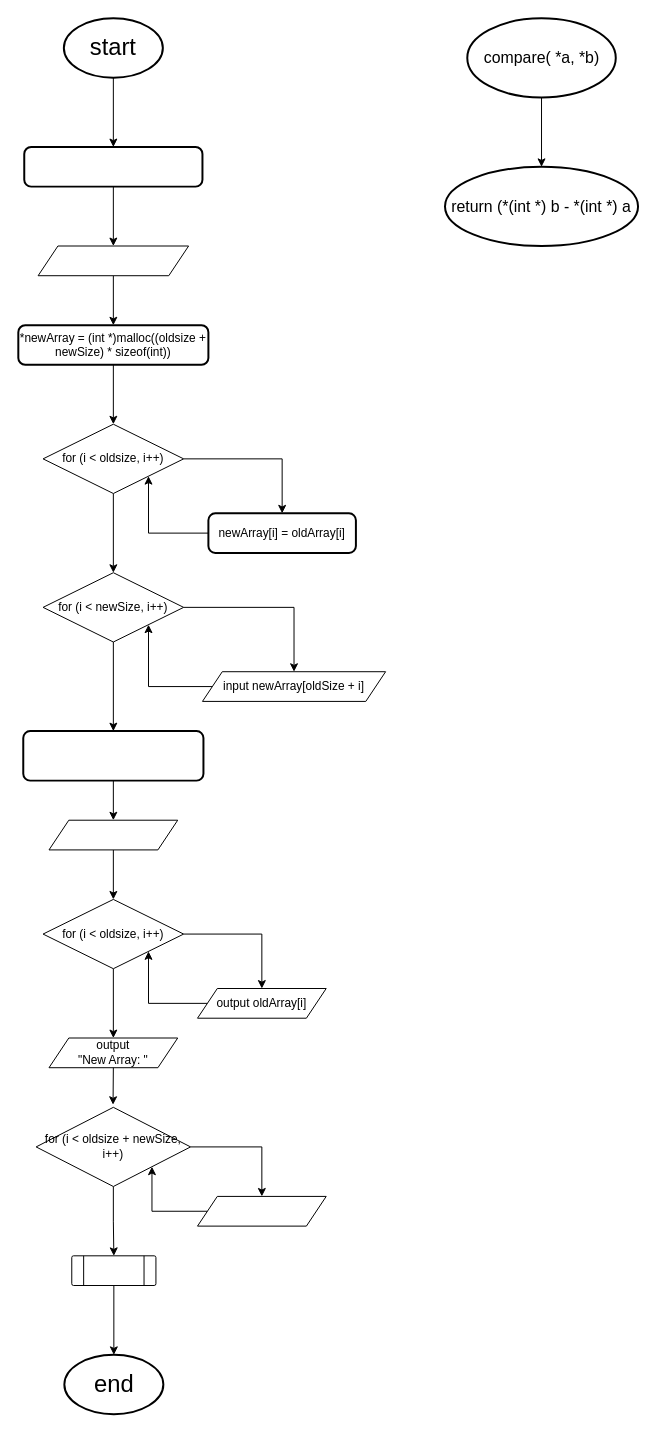
This 655x1432 diagram has some shape labels left out. Here are the shapes that lost their labels. From the top down, the box of each, then its label:
(23, 146, 203, 187): oldArray[] = {9, 2, 6, 1, 7}
(37, 245, 189, 276): input newSize
(22, 730, 204, 781): qsort(newArray, oldsize + newSize, sizeof(int),compare
(48, 819, 178, 850): output "Old Array: "
(197, 1195, 326, 1226): output newArray[i]
(71, 1255, 156, 1286): fee(newArray)
